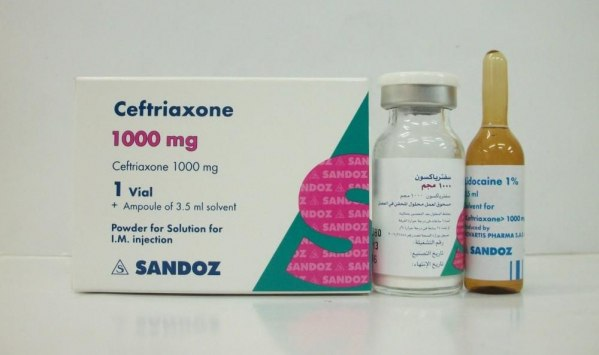Medicine: (68, 72, 376, 295), (376, 65, 472, 296), (470, 42, 533, 295)
